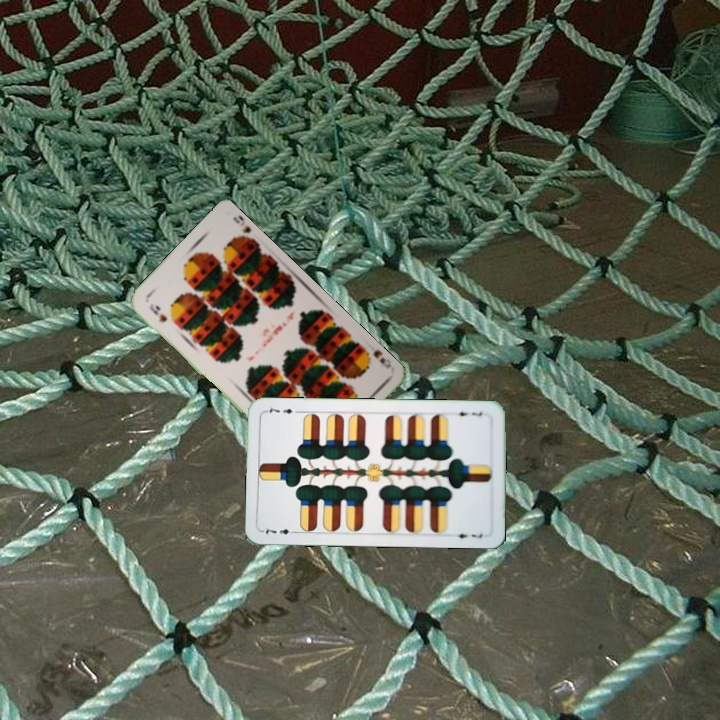E7: (260, 525, 300, 537), (450, 407, 484, 419)
S9: (359, 345, 394, 371), (145, 299, 170, 325)
